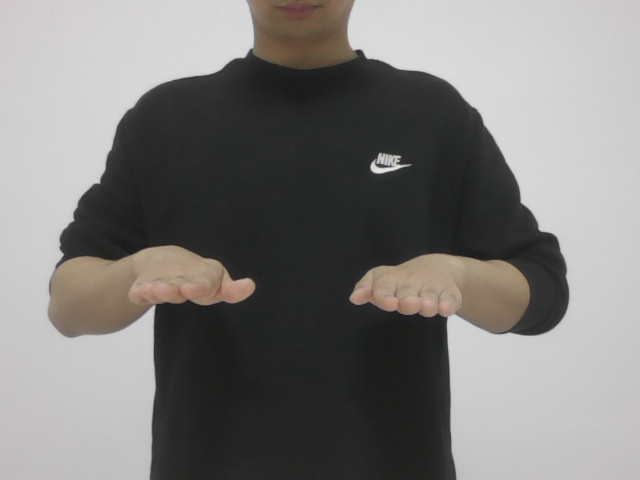flat: (124, 239, 462, 329)
